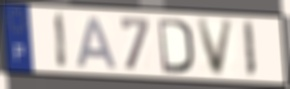7: (118, 15, 152, 74)
A: (74, 14, 120, 71)
D: (156, 16, 196, 76)
I: (53, 10, 69, 72), (242, 20, 258, 81)
V: (195, 18, 237, 78)
